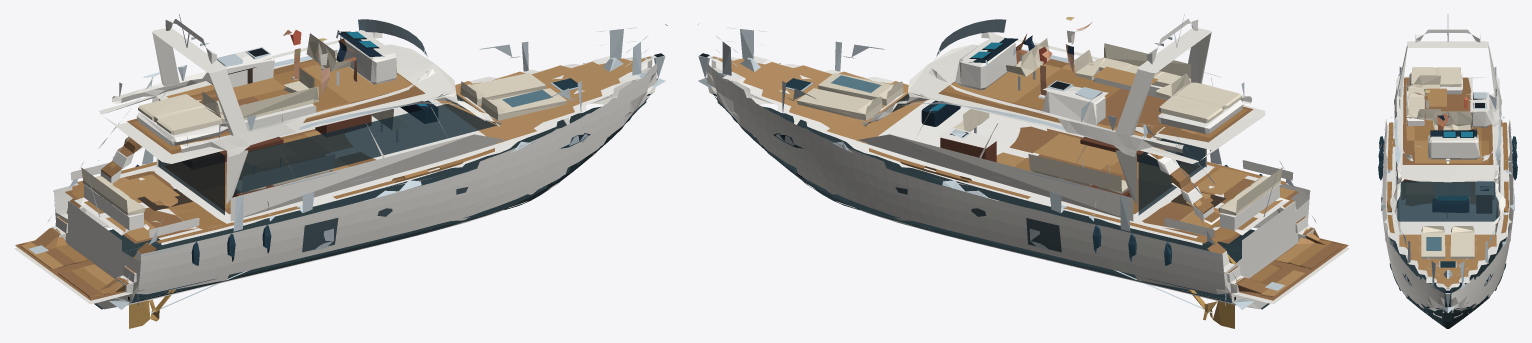
File: princess60-nharong-lod2.glb
3 views of the same model, side by side, from view 1: azimuth 30°, elevation 25°; view 2: azimuth 150°, elevation 25°; view 3: azimuth 270°, elevation 25° (orthographic). The views are drawn at different scales.
Parts seen in each view (by area): view 1: lod2-0, lod2-8, lod2-4, lod2-6, lod2-10, lod2-7, lod2-5, lod2-3, lod2-2, lod2-15, lod2-1, lod2-19 (+1 smaller); view 2: lod2-0, lod2-8, lod2-10, lod2-6, lod2-7, lod2-3, lod2-2, lod2-5, lod2-4, lod2-15, lod2-1, lod2-19 (+1 smaller); view 3: lod2-0, lod2-8, lod2-4, lod2-10, lod2-6, lod2-7, lod2-3, lod2-5, lod2-2, lod2-1, lod2-17, lod2-15 (+4 smaller).
Part boxes in pixels (x1,y1,x2,y2): lod2-0: (14, 28, 656, 309); lod2-8: (74, 19, 655, 245); lod2-4: (158, 19, 590, 252); lod2-6: (20, 56, 650, 294); lod2-10: (81, 33, 566, 215); lod2-7: (15, 53, 425, 300); lod2-5: (19, 60, 494, 297); lod2-3: (29, 14, 667, 313); lod2-2: (94, 93, 652, 309); lod2-15: (183, 114, 371, 197); lod2-1: (104, 32, 649, 297); lod2-19: (129, 254, 175, 328); lod2-0: (707, 28, 1349, 309); lod2-8: (708, 19, 1289, 245); lod2-10: (797, 38, 1282, 215); lod2-6: (712, 56, 1332, 296); lod2-7: (938, 53, 1348, 300); lod2-3: (697, 14, 1315, 313); lod2-2: (711, 93, 1269, 309); lod2-5: (869, 68, 1344, 297); lod2-4: (773, 19, 1205, 252); lod2-15: (940, 136, 1182, 197); lod2-1: (713, 38, 1259, 297); lod2-19: (1188, 254, 1235, 328); lod2-0: (1382, 41, 1513, 318); lod2-8: (1384, 29, 1511, 290); lod2-4: (1385, 161, 1510, 285); lod2-10: (1406, 67, 1474, 258); lod2-6: (1399, 83, 1496, 288); lod2-7: (1402, 77, 1493, 205); lod2-3: (1381, 14, 1514, 312); lod2-5: (1387, 77, 1508, 233); lod2-2: (1389, 237, 1506, 328); lod2-1: (1389, 130, 1506, 308); lod2-17: (1378, 136, 1517, 180); lod2-15: (1403, 179, 1491, 212).
Size of the model in its own units: 18.36 by 8.09 by 5.11.
